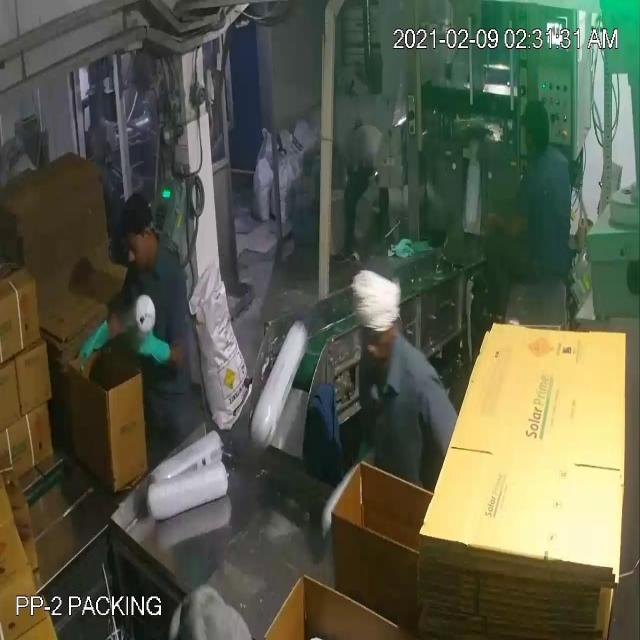Gloves: (48, 58, 509, 341)
